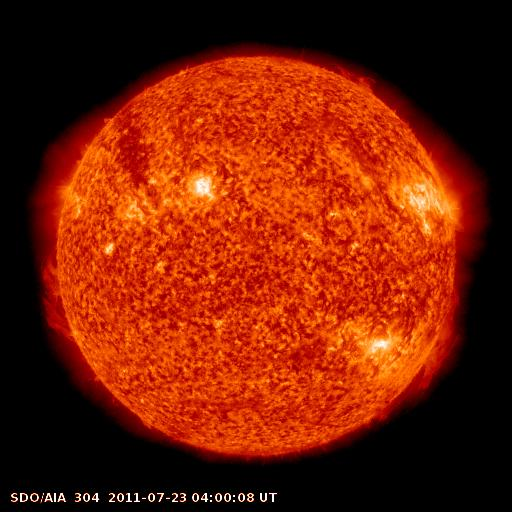prominence: (379, 288, 470, 419), (35, 241, 83, 347), (321, 58, 381, 98)
